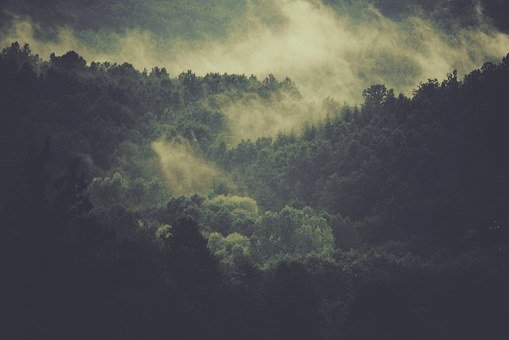forest: (9, 52, 497, 335)
sky: (4, 4, 504, 80)
